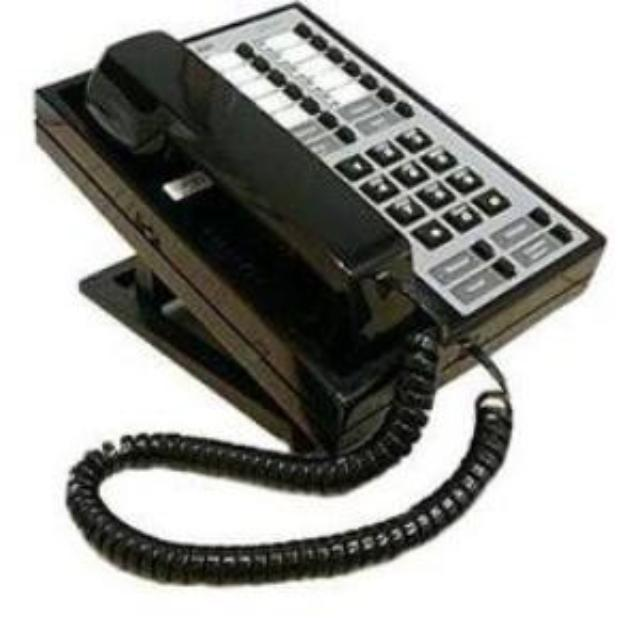Telephone-Set: (25, 0, 611, 588)
